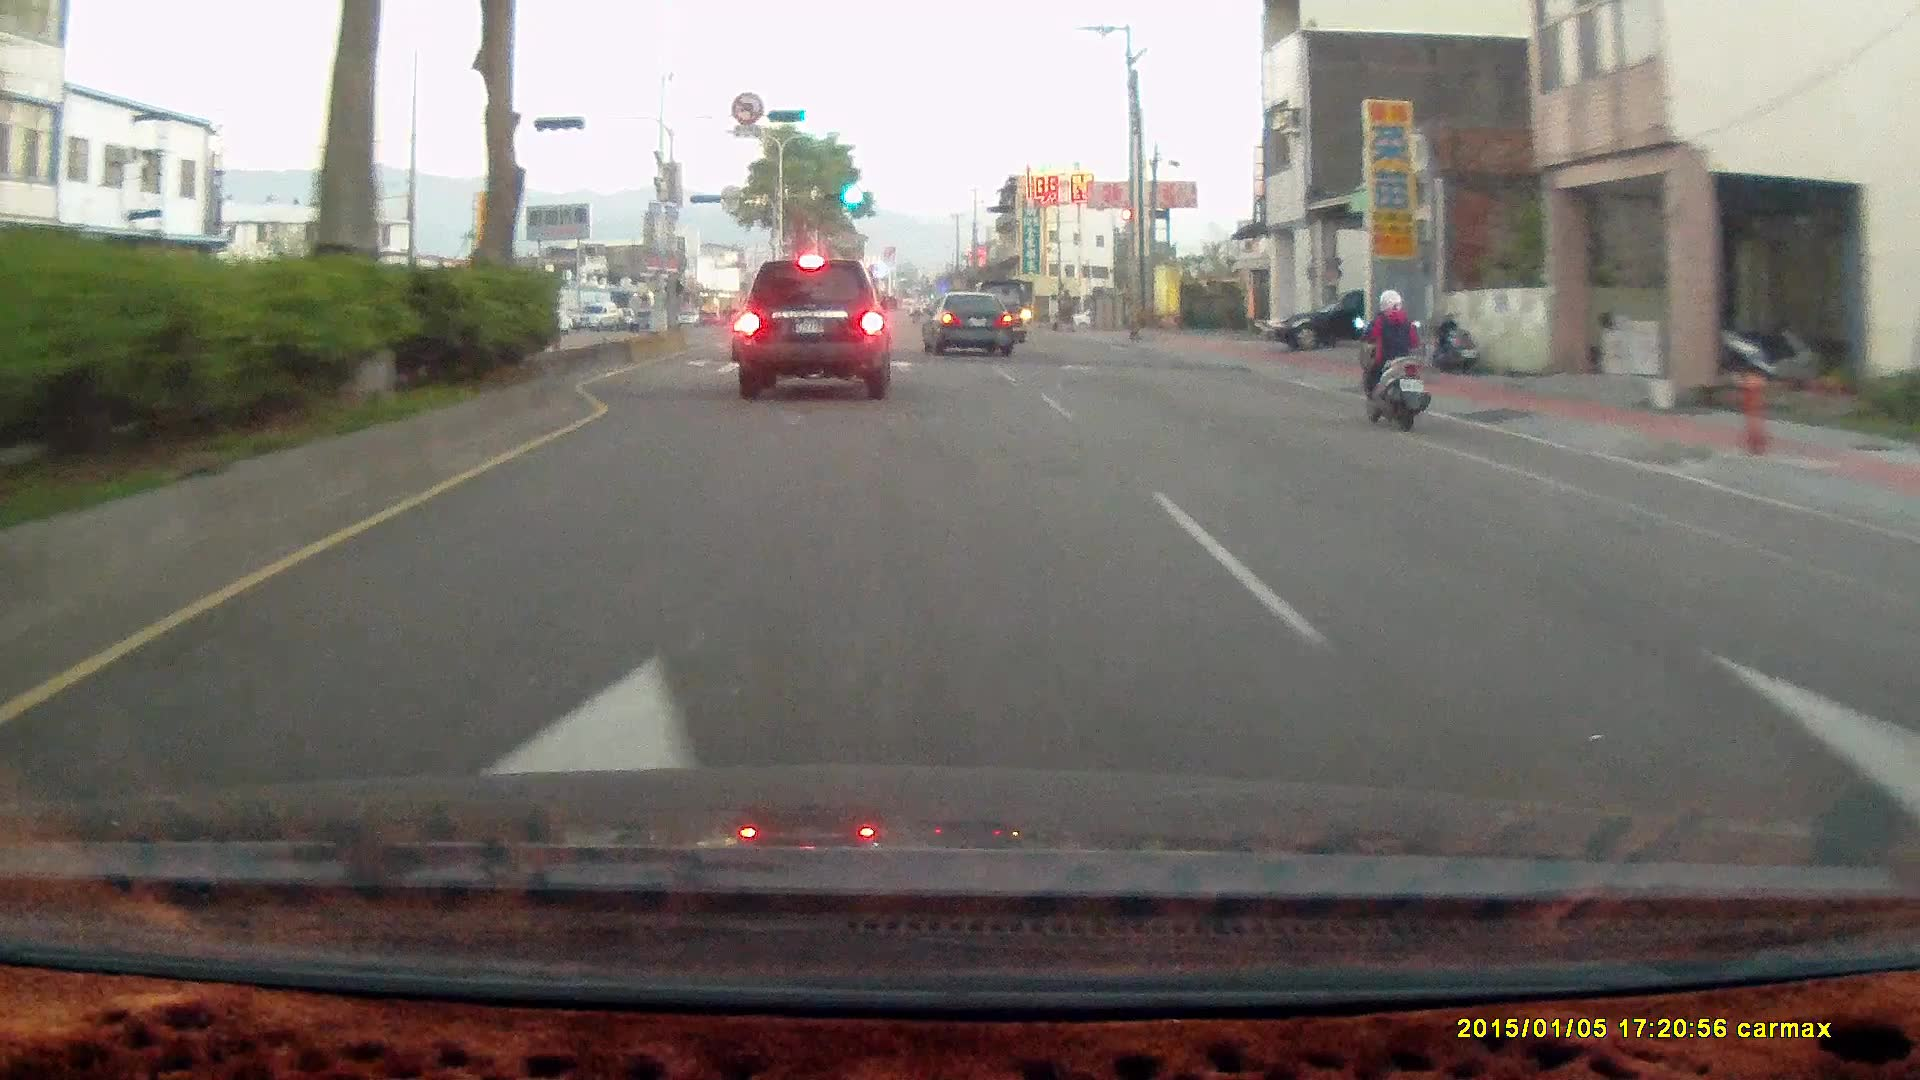rider: (1342, 278, 1444, 440), (1352, 285, 1431, 430)
vehicle: (728, 261, 890, 410), (736, 259, 896, 398), (1265, 287, 1445, 350), (1266, 290, 1373, 351), (923, 292, 1016, 357), (921, 290, 1011, 355), (574, 301, 620, 331)
